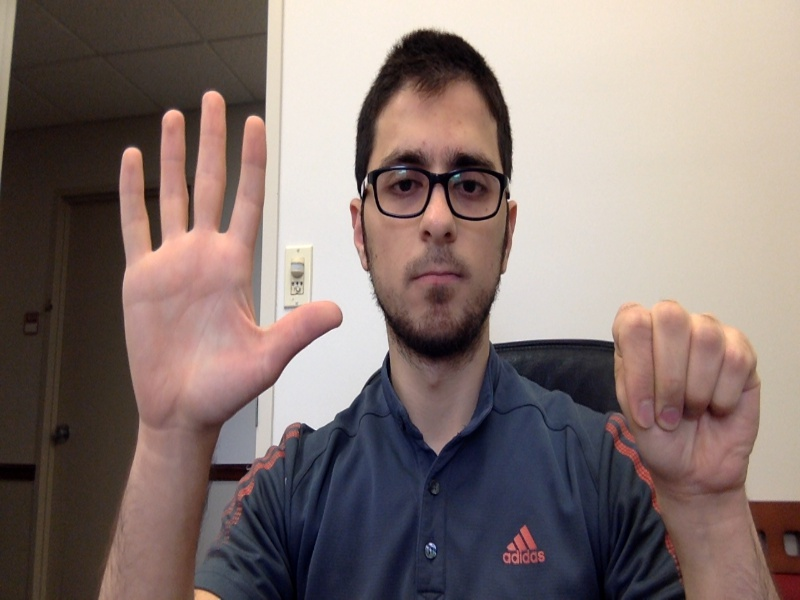0-hand: (612, 303, 761, 493)
5-hand: (118, 92, 342, 439)
